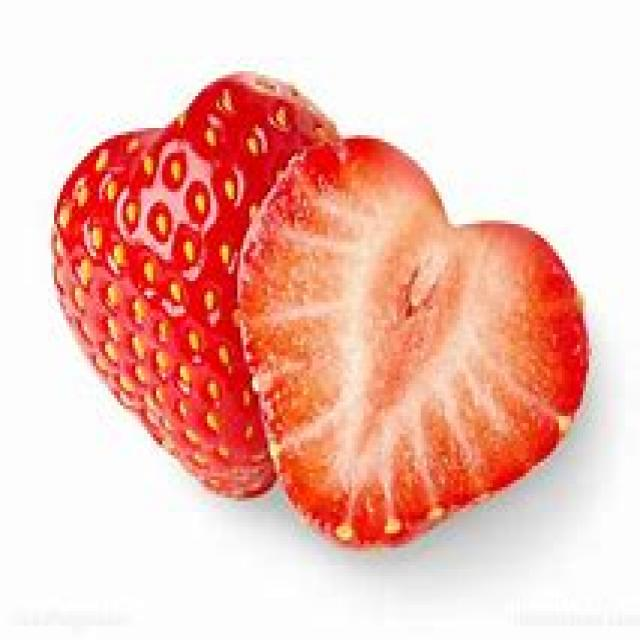strawberry: (267, 175, 594, 552), (47, 108, 235, 514)
